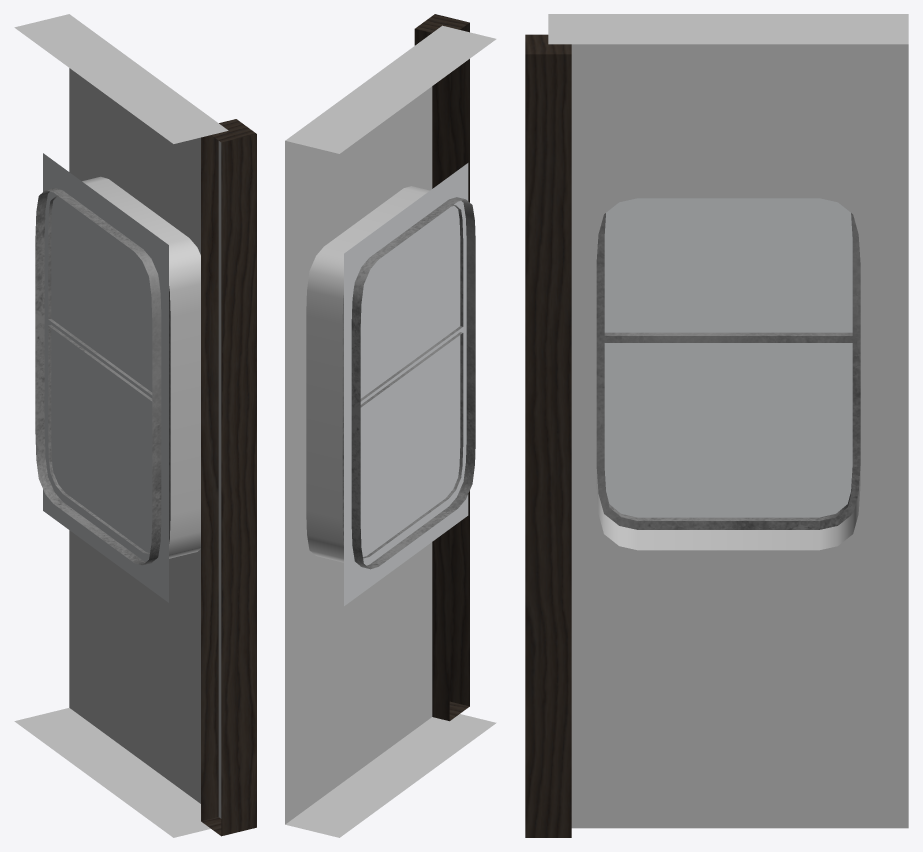
File: FerryModularWall.fbx
3 views of the same model, side by side, from view 1: azimuth 30°, elevation 25°; view 2: azimuth 150°, elevation 25°; view 3: azimuth 270°, elevation 25° (orthographic). The views are drawn at different scales.
Visible parts, largest first — view 1: Ferry Wall 1, Window; view 2: Ferry Wall 1, Window; view 3: Ferry Wall 1, Window.
Boxes of the visible parts, bbox=[...] form: Ferry Wall 1: bbox=[14, 14, 256, 837]; Window: bbox=[43, 153, 168, 602]; Ferry Wall 1: bbox=[285, 14, 496, 837]; Window: bbox=[344, 163, 468, 605]; Ferry Wall 1: bbox=[525, 14, 908, 837]; Window: bbox=[604, 198, 852, 517].
Bounding box in the file's own units: 132 × 1200 × 532.
